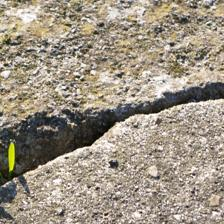Crack: (5, 40, 216, 146)
